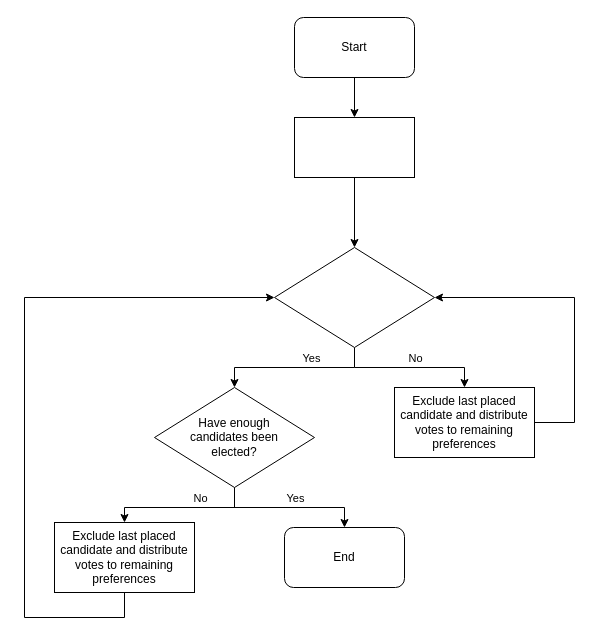
The diagram is 600 pixels wide and 643 high, and some of its shapes have lost their labels. Here are the shapes that lost their labels. From the top down, the centre of each, then its label:
[354,147]: Count first preferences for each candidate
[354,297]: Does any candidate have votes equal or greater than the quota
